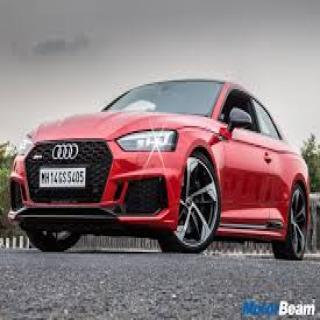Normal_vehicle: (9, 76, 311, 268)
